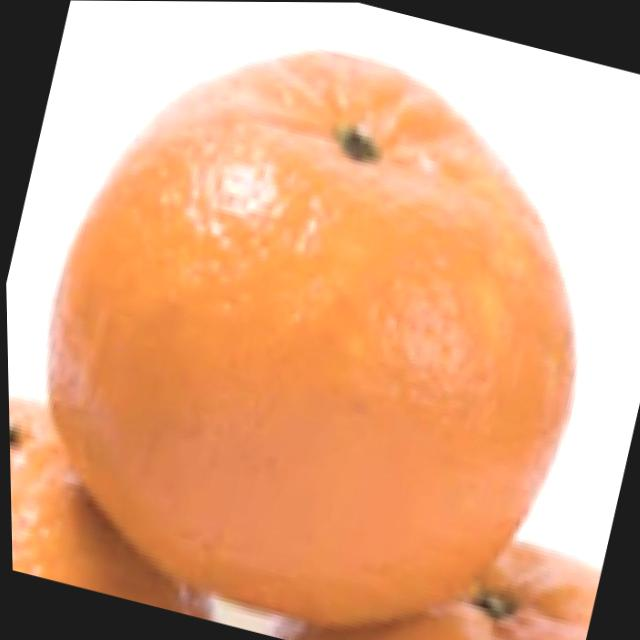Orange: (0, 0, 640, 640), (7, 374, 263, 621), (269, 476, 604, 640)
